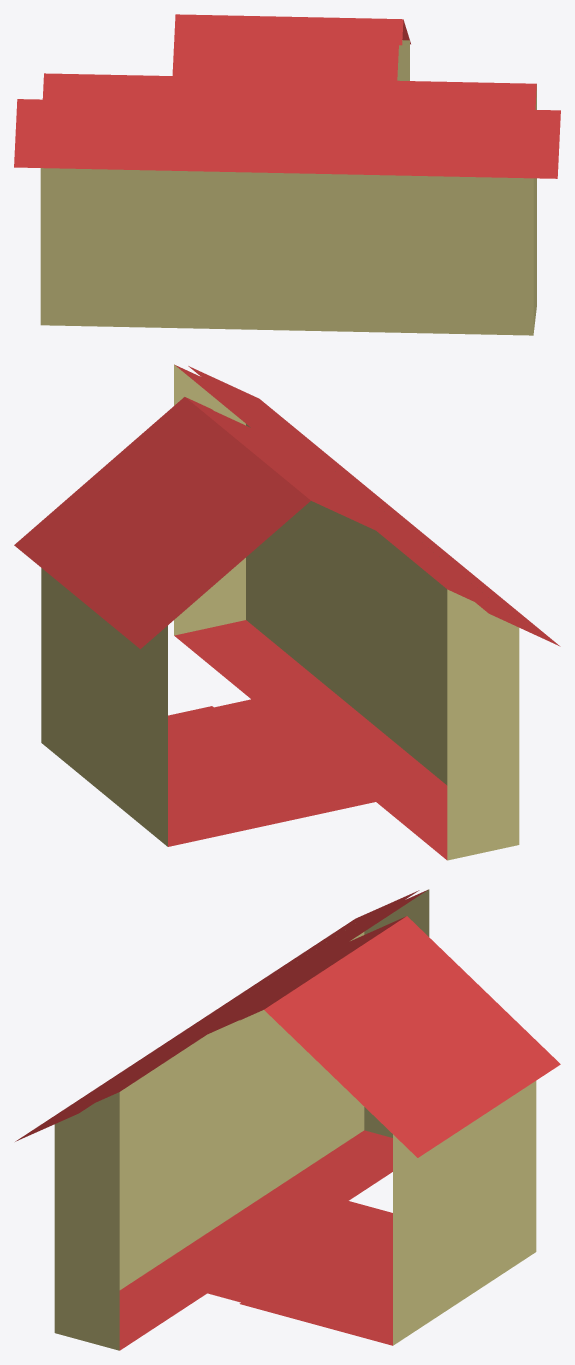
3 renders of one model, top to bottom at view 1: azimuth 30°, elevation 25°; view 2: azimuth 150°, elevation 25°; view 3: azimuth 270°, elevation 25°, orthographic. The views are drawn at different scales.
Size of the model in its own units: 14.53 by 13.91 by 8.45.
